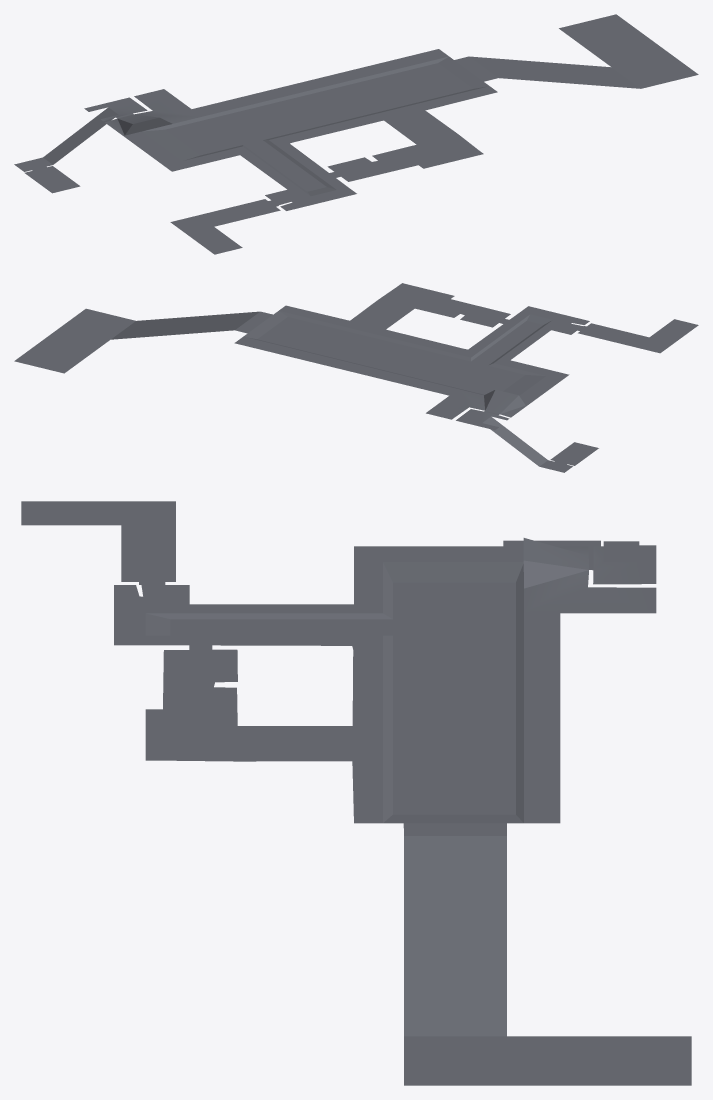
The model's file is navmesh.fbx.
3 renders of one model, top to bottom at view 1: azimuth 30°, elevation 25°; view 2: azimuth 150°, elevation 25°; view 3: azimuth 270°, elevation 25°, orthographic. The views are drawn at different scales.
Parts seen in each view (by area): view 1: NavMesh; view 2: NavMesh; view 3: NavMesh.
Part boxes in pixels (x1,y1,x2,y2): NavMesh: [14, 14, 698, 254]; NavMesh: [14, 283, 698, 472]; NavMesh: [21, 501, 691, 1085].
Bounding box in the file's own units: 42.52 × 3.63 × 22.94.
